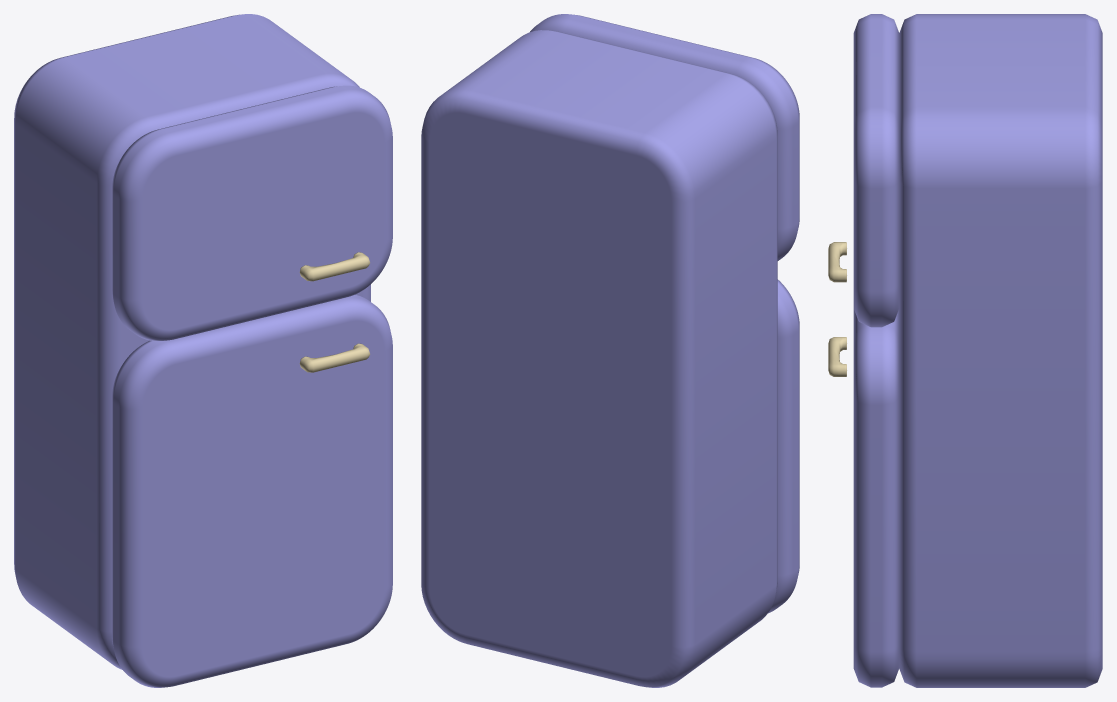
3 views of the same model, side by side, from view 1: azimuth 30°, elevation 25°; view 2: azimuth 150°, elevation 25°; view 3: azimuth 270°, elevation 25° (orthographic). The views are drawn at different scales.
Parts seen in each view (by area): view 1: Rectangle 8, Rectangle 6, Rectangle 7, Cube 8, Cube 9; view 2: Rectangle 6, Rectangle 7, Rectangle 8; view 3: Rectangle 6, Rectangle 8, Rectangle 7, Cube 8, Cube 9.
Part boxes in pixels (x1,y1,x2,y2): Rectangle 8: (112,294,392,687); Rectangle 6: (14,14,370,669); Rectangle 7: (112,85,392,341); Cube 8: (299,252,370,281); Cube 9: (299,343,370,372); Rectangle 6: (421,30,777,687); Rectangle 7: (530,14,799,260); Rectangle 8: (768,279,799,613); Rectangle 6: (899,14,1102,687); Rectangle 8: (853,309,899,687); Rectangle 7: (853,14,899,327); Cube 8: (828,242,846,282); Cube 9: (828,337,846,376).
Bounding box in the file's own units: 1.73 × 3.36 × 1.45.
